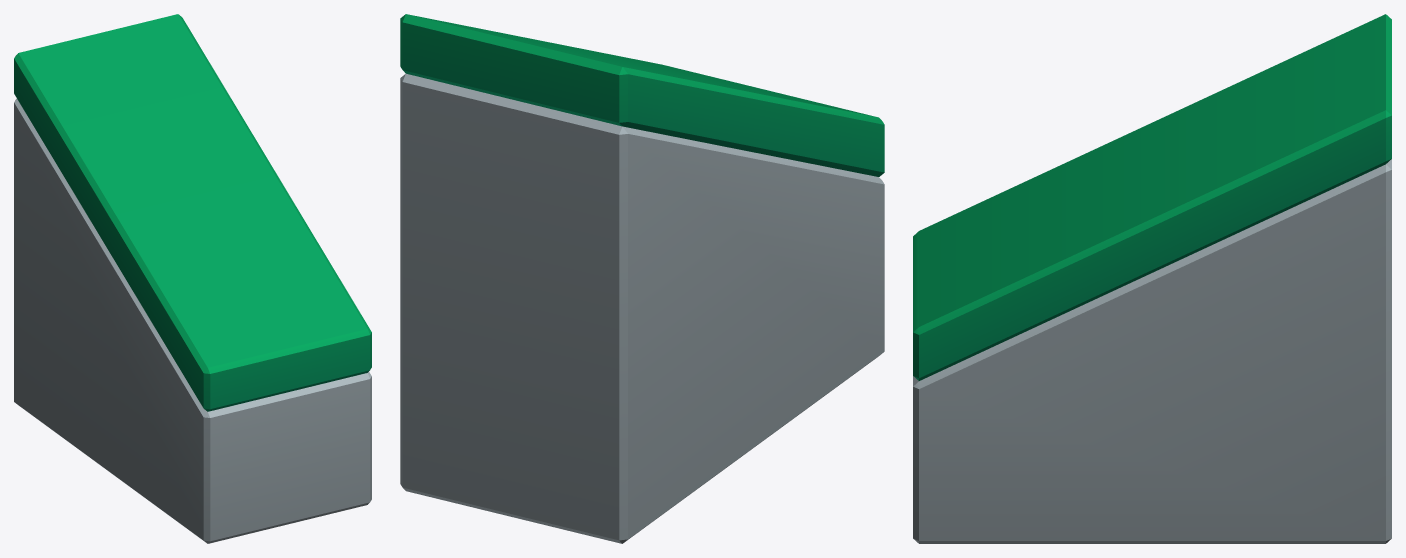
The model's file is platform_slope_2x4x4_green.glb.
3 views of the same model, side by side, from view 1: azimuth 30°, elevation 25°; view 2: azimuth 150°, elevation 25°; view 3: azimuth 270°, elevation 25° (orthographic). The views are drawn at different scales.
Visible parts, largest first — view 1: platform_slope_2x4x4_green; view 2: platform_slope_2x4x4_green; view 3: platform_slope_2x4x4_green.
Part boxes in pixels (bbox=[...]): platform_slope_2x4x4_green: bbox=[14, 14, 371, 543]; platform_slope_2x4x4_green: bbox=[400, 14, 884, 543]; platform_slope_2x4x4_green: bbox=[913, 14, 1391, 543].
Bounding box in the file's own units: 2 × 4 × 4.
Materials: 1 (1 with a texture image).
